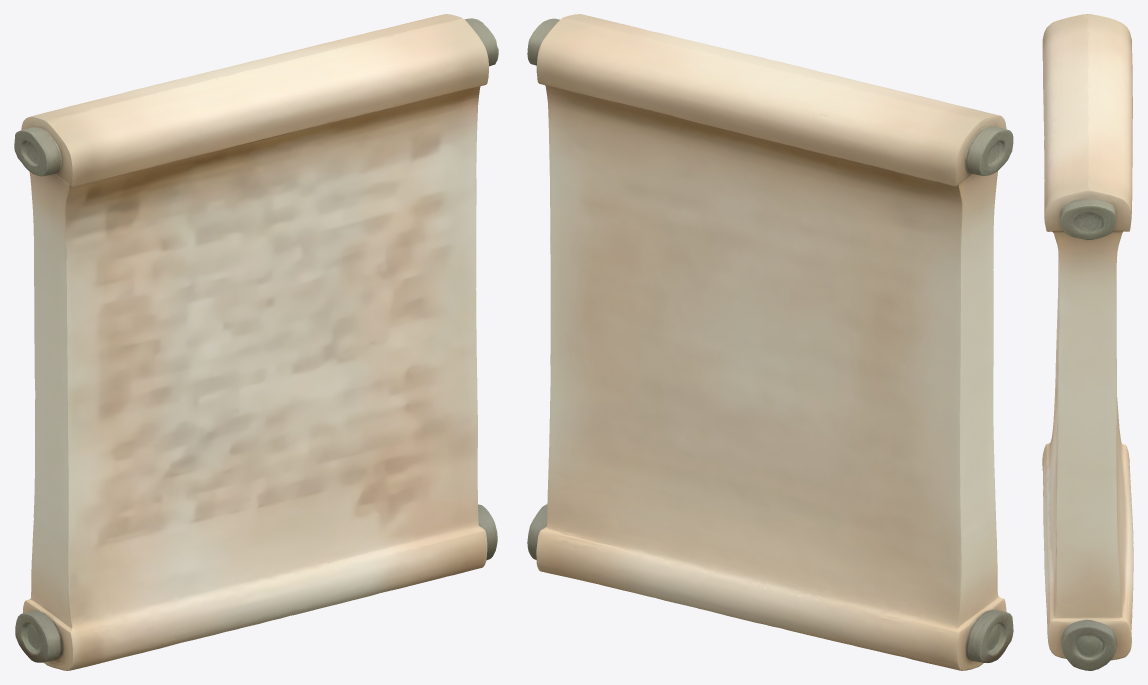
The model's file is model_shaded.glb.
The picture shows the model from 3 angles, left to right: view 1: azimuth 30°, elevation 25°; view 2: azimuth 150°, elevation 25°; view 3: azimuth 270°, elevation 25°; orthographic projection. The views are drawn at different scales.
Visible parts, largest first — view 1: Mesh; view 2: Mesh; view 3: Mesh.
Boxes of the visible parts, x1,y1,x2,y2 form: Mesh: [14, 14, 498, 670]; Mesh: [527, 14, 1013, 670]; Mesh: [1042, 14, 1133, 670].
Bounding box in the file's own units: 1.63 × 1.88 × 0.3269.
Materials: 1 (1 with a texture image).
